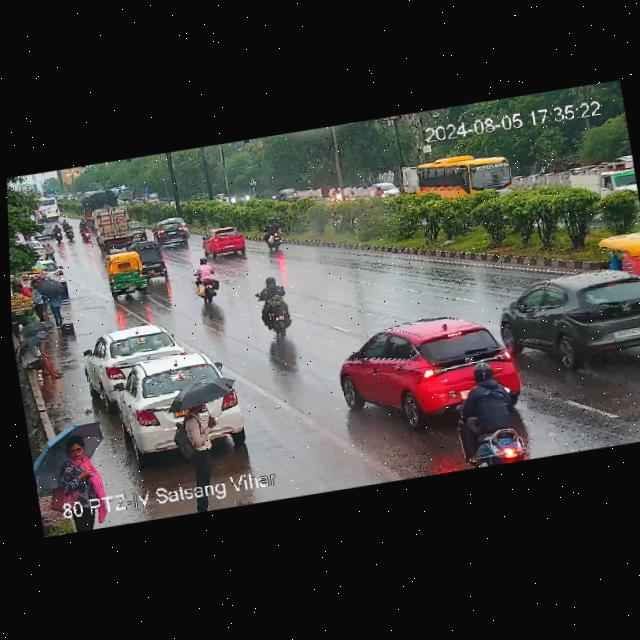bus: (405, 143, 522, 212), (37, 193, 62, 222)
car: (329, 308, 518, 432), (94, 347, 251, 467), (496, 268, 640, 379), (83, 321, 187, 389), (597, 229, 640, 295), (104, 249, 155, 298), (195, 222, 251, 264), (151, 212, 194, 249), (130, 243, 170, 280)
motorcycle: (451, 361, 521, 469), (244, 273, 306, 341), (187, 258, 227, 306), (259, 215, 294, 253), (58, 217, 78, 243), (77, 215, 94, 241)
person: (170, 391, 231, 479), (44, 434, 102, 505), (15, 330, 65, 382), (25, 273, 71, 325), (41, 238, 59, 266)
truck: (85, 203, 145, 252)
